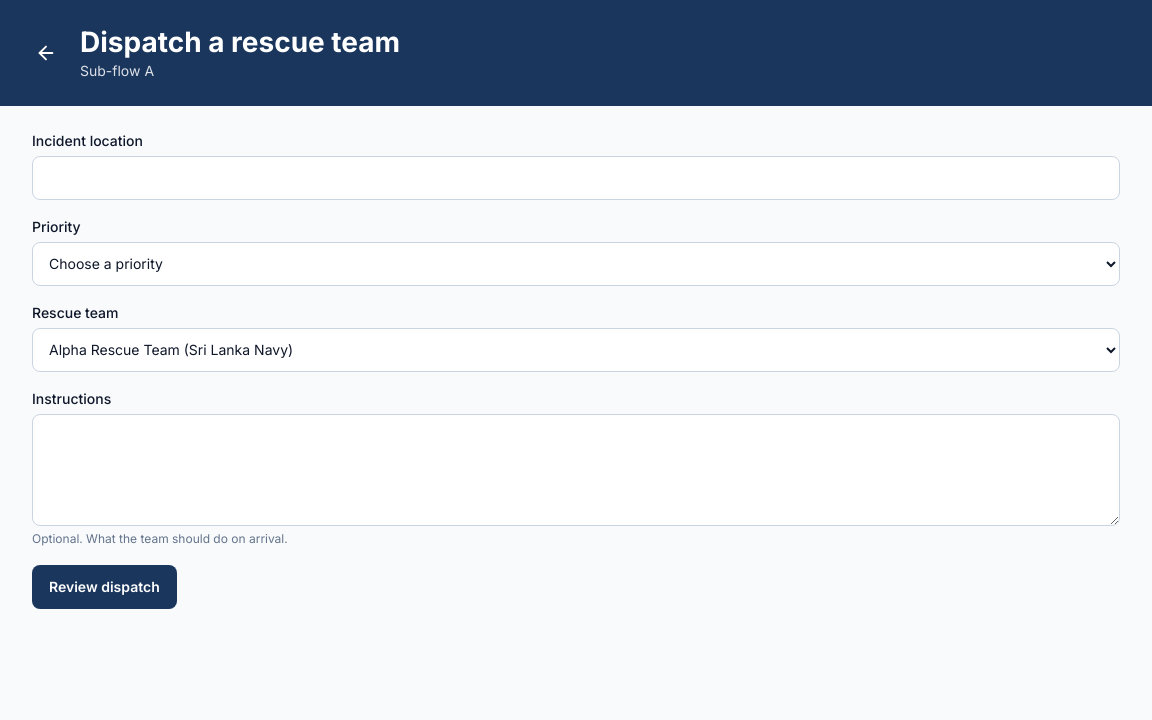
Test: Dispatch a rescue team (A2-A4) › should show server field errors from the preview and keep the form
The image size is (1152, 720).
In the field labelled "Incident location": [576, 178] box [32,156,1120,200], type "Kaduwela"
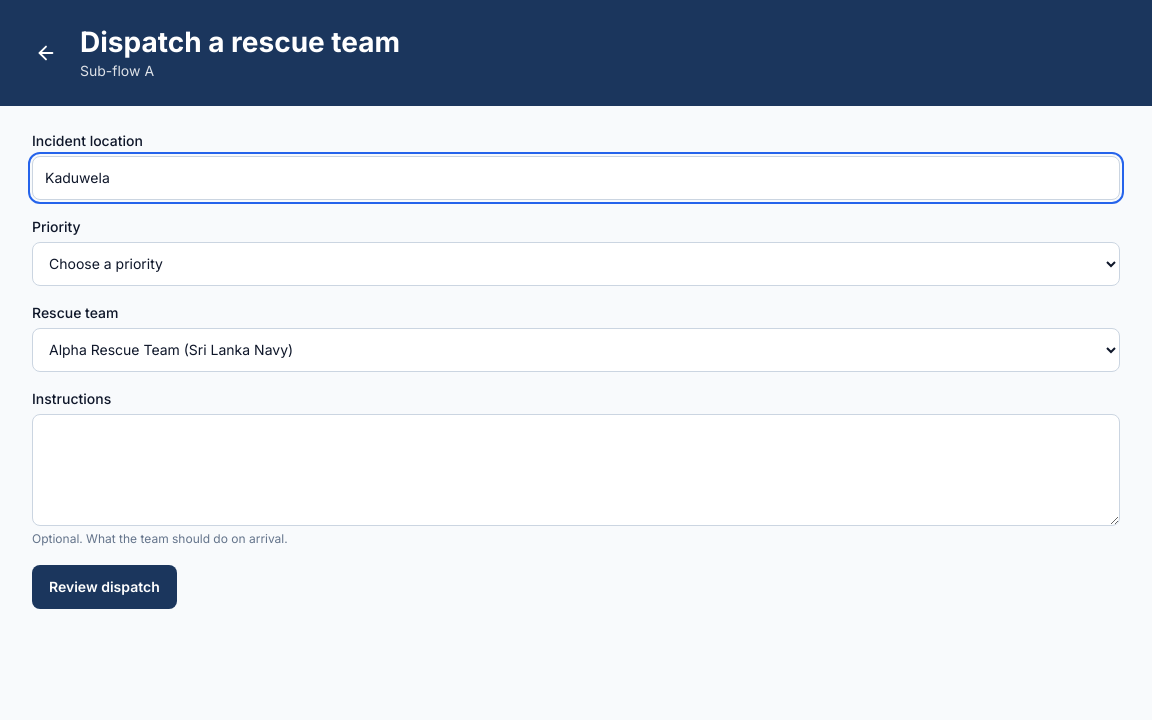
Select "High" in the dropdown labelled "Priority": [576, 264] box [32,242,1120,286]
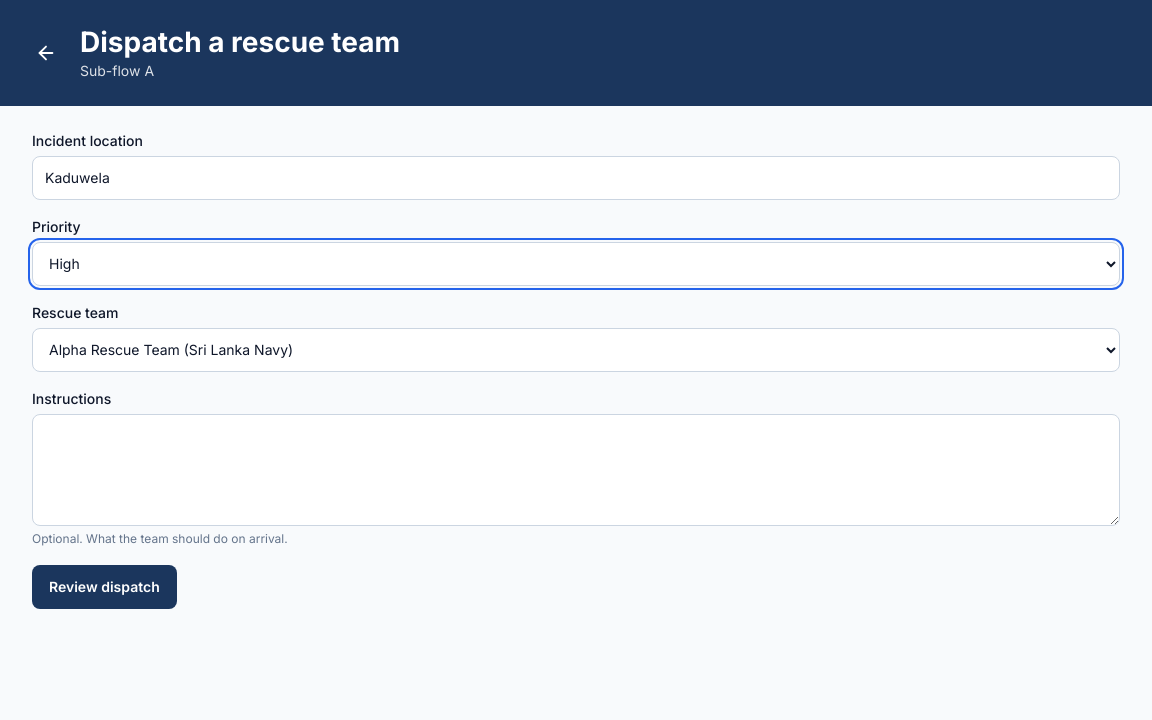
Click the button "Review dispatch": [104, 587] box [32,565,177,609]
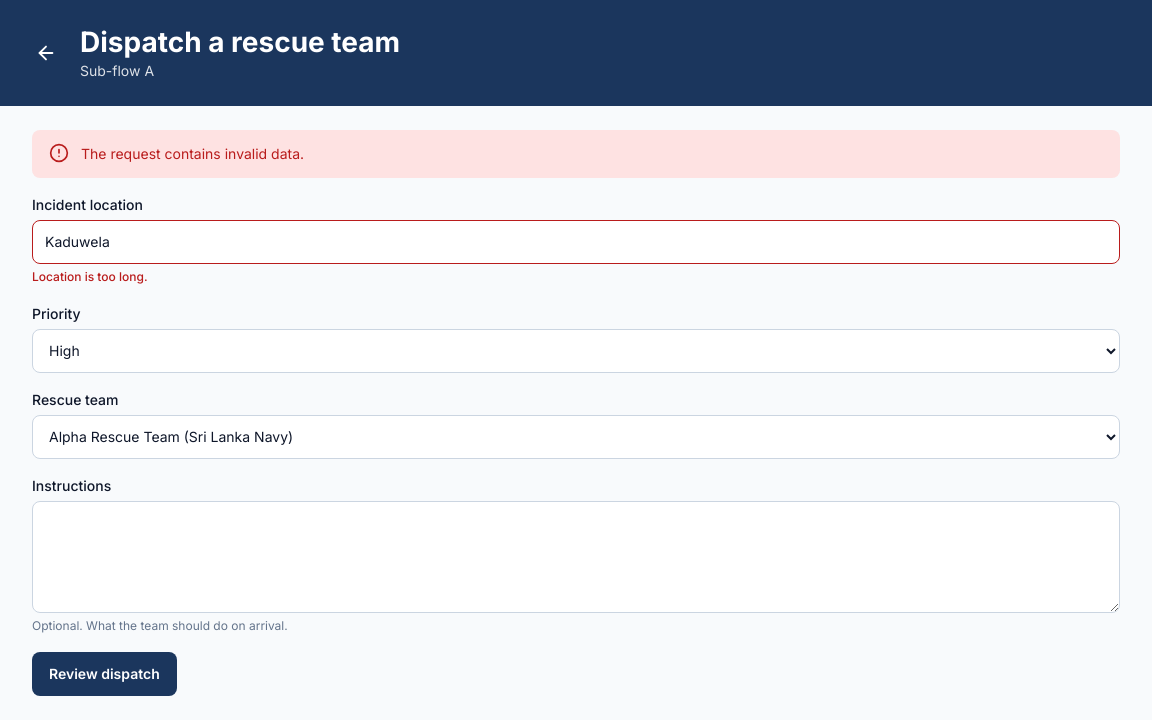
expect the text "Location is too long." is shown: met, box [32,269,148,284]
